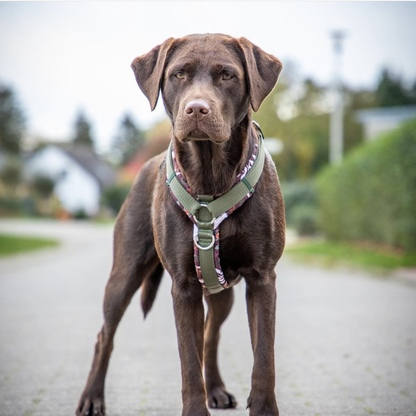labrado: (73, 28, 292, 416)
